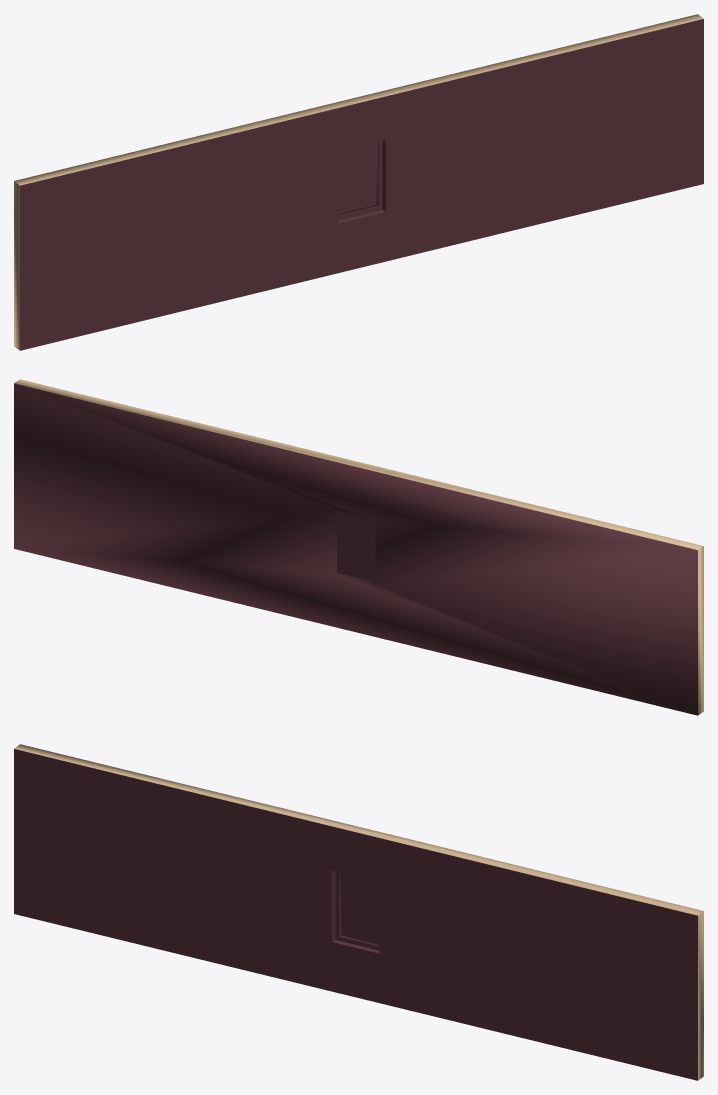
The model's file is house-wall-window-3x3m_enlarged.fbx.
3 renders of one model, top to bottom at view 1: azimuth 30°, elevation 25°; view 2: azimuth 150°, elevation 25°; view 3: azimuth 330°, elevation 25°, orthographic.
Visible parts, largest first — view 1: house-wall-window-3x3m; view 2: house-wall-window-3x3m; view 3: house-wall-window-3x3m.
Boxes of the visible parts, x1,y1,x2,y2 form: house-wall-window-3x3m: (14,14,703,350); house-wall-window-3x3m: (14,379,703,715); house-wall-window-3x3m: (14,744,703,1080).
Size of the model in its own units: 1300 by 301 by 20.
